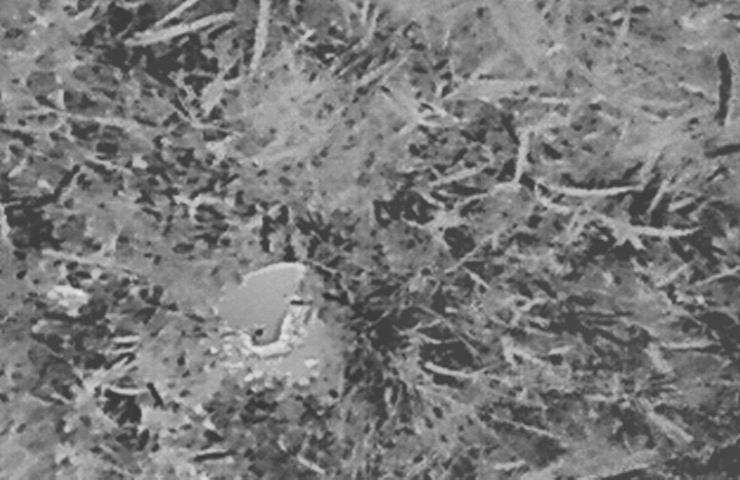landmines: (206, 257, 343, 387)
